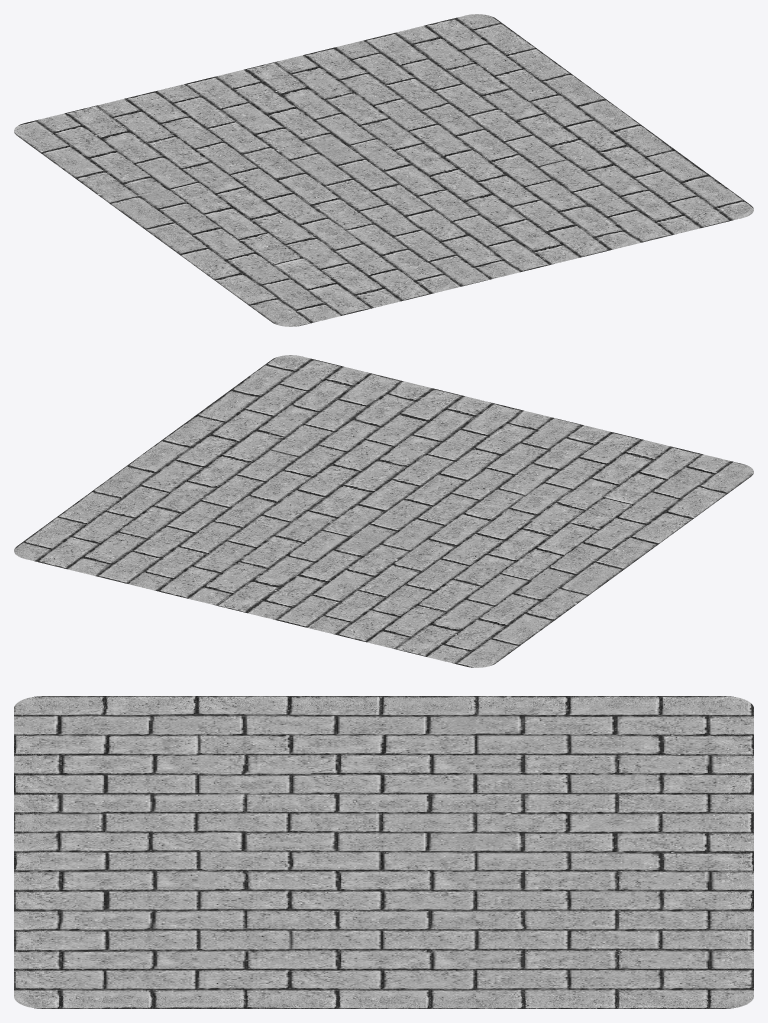
The model's file is paving.fbx.
3 views of the same model, one above another, from view 1: azimuth 30°, elevation 25°; view 2: azimuth 150°, elevation 25°; view 3: azimuth 270°, elevation 25° (orthographic). The views are drawn at different scales.
Visible parts, largest first — view 1: 000_Plane; view 2: 000_Plane; view 3: 000_Plane.
Boxes of the visible parts, x1,y1,x2,y2 form: 000_Plane: (14, 14, 753, 326); 000_Plane: (14, 355, 753, 667); 000_Plane: (14, 696, 753, 1008).
Size of the model in its own units: 10000 by 0.00163 by 10000.
Materials: 1 (1 with a texture image).
